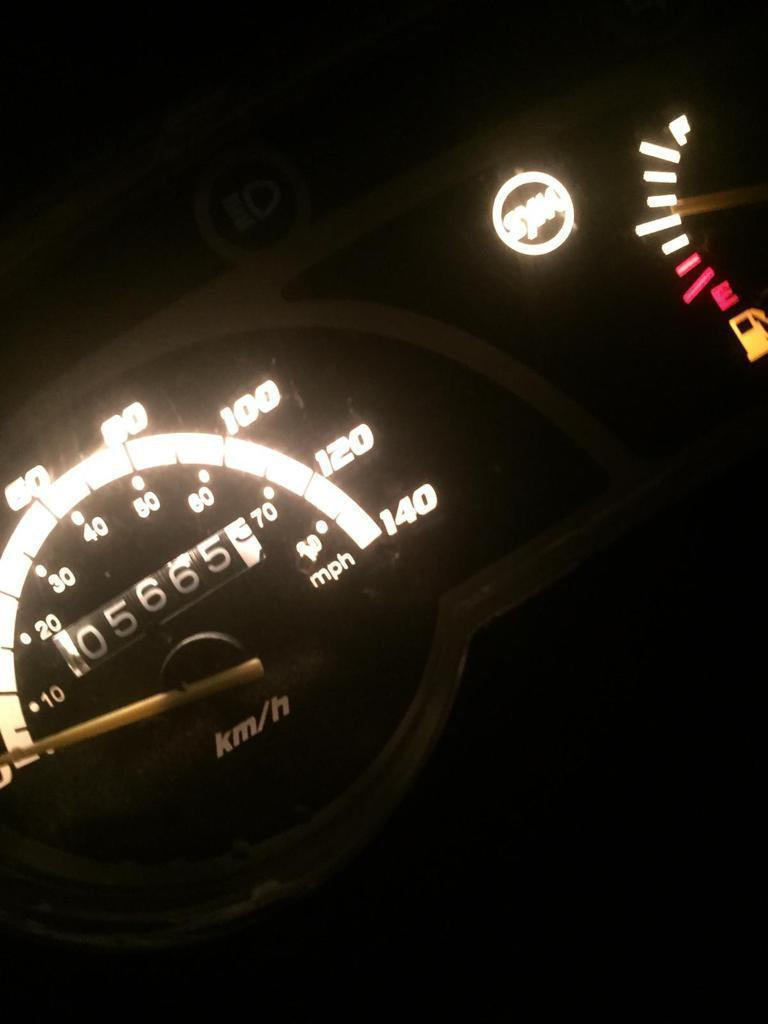0: (72, 626, 108, 660), (45, 613, 66, 633), (59, 562, 77, 583), (91, 518, 113, 534)
3: (226, 520, 260, 542), (48, 574, 64, 591)
4: (81, 522, 99, 544)
5: (100, 597, 138, 639), (190, 536, 233, 573)
6: (131, 575, 172, 612), (167, 561, 202, 590)
odometer: (47, 514, 269, 681)
